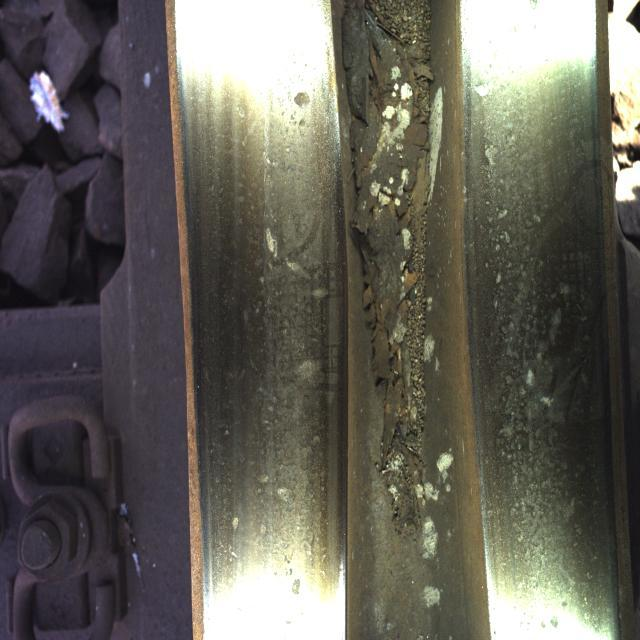scar: (472, 76, 598, 575), (229, 42, 339, 574)
